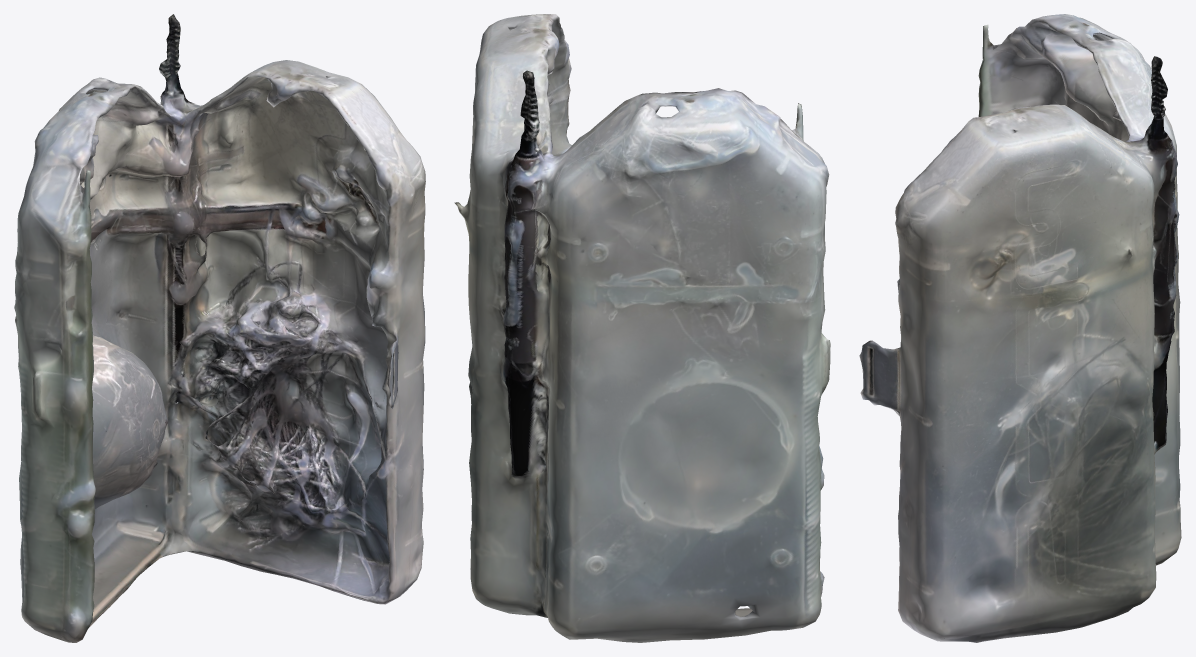
The picture shows the model from 3 angles, left to right: view 1: azimuth 30°, elevation 25°; view 2: azimuth 150°, elevation 25°; view 3: azimuth 270°, elevation 25°; orthographic projection. The views are drawn at different scales.
Visible parts, largest first — view 1: P12; view 2: P12; view 3: P12.
Part boxes in pixels (x1,y1,x2,y2): P12: [14, 14, 425, 642]; P12: [454, 14, 830, 642]; P12: [859, 14, 1181, 642].
Size of the model in its own units: 0.4741 by 0.6817 by 0.3681.
Materials: 1 (1 with a texture image).
